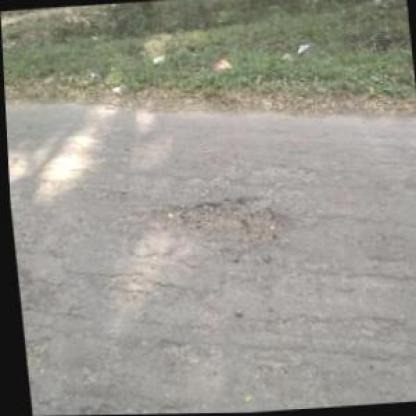pothole: (138, 193, 288, 255)
